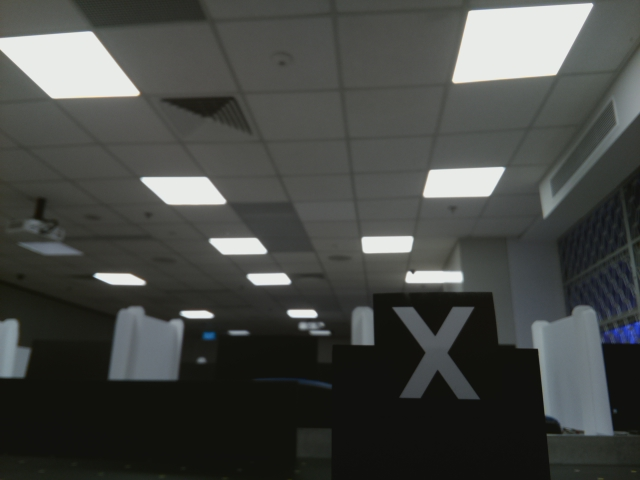x: (386, 303, 485, 398)
